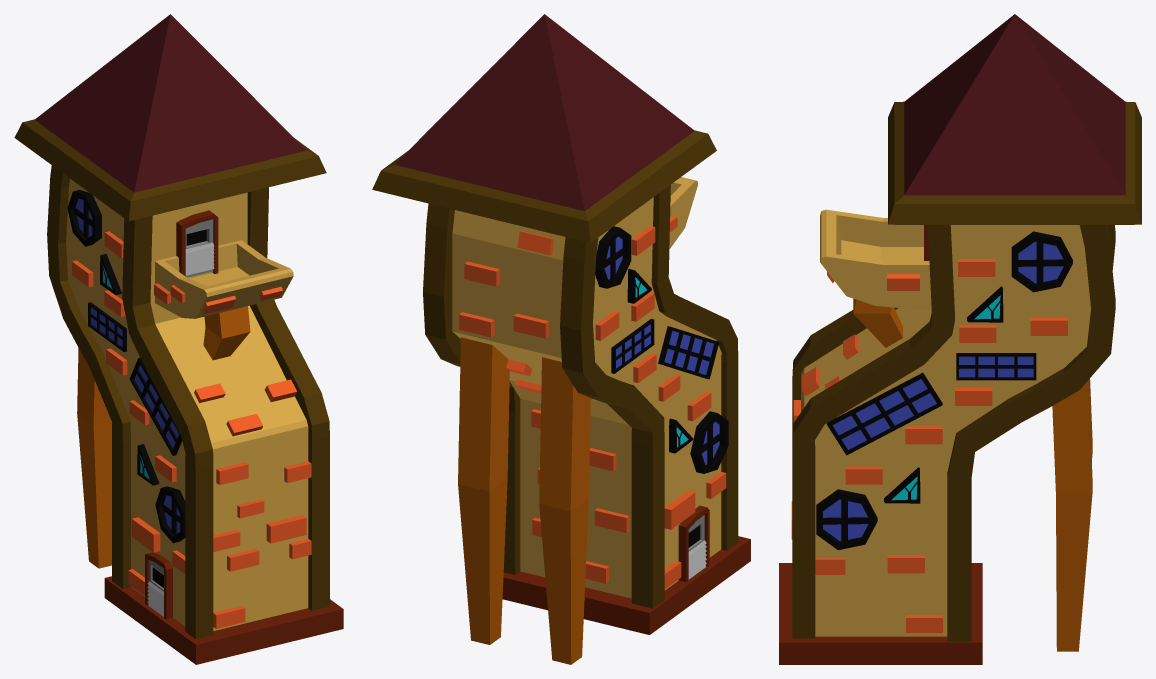
The model's file is CasaTortaAmarelo.fbx.
The picture shows the model from 3 angles, left to right: view 1: azimuth 30°, elevation 25°; view 2: azimuth 150°, elevation 25°; view 3: azimuth 270°, elevation 25°; orthographic projection. The views are drawn at different scales.
Visible parts, largest first — view 1: CasaTortaVerdeAmarelo; view 2: CasaTortaVerdeAmarelo; view 3: CasaTortaVerdeAmarelo.
Part boxes in pixels (x1=…): CasaTortaVerdeAmarelo: x1=14, y1=14, x2=343, y2=664; CasaTortaVerdeAmarelo: x1=372, y1=14, x2=750, y2=664; CasaTortaVerdeAmarelo: x1=779, y1=14, x2=1141, y2=664.
Size of the model in its own units: 659 by 1766 by 941.
